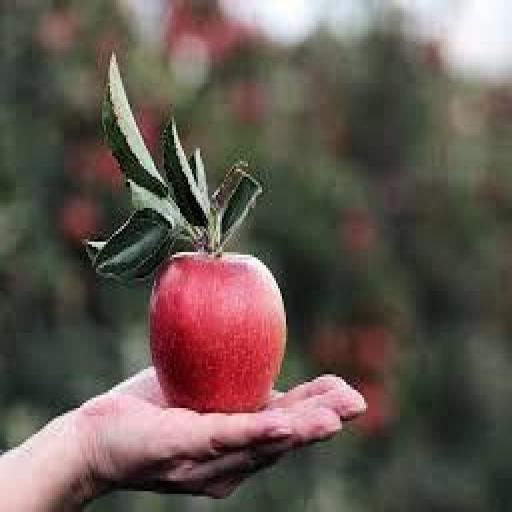apple: (150, 253, 285, 413)
